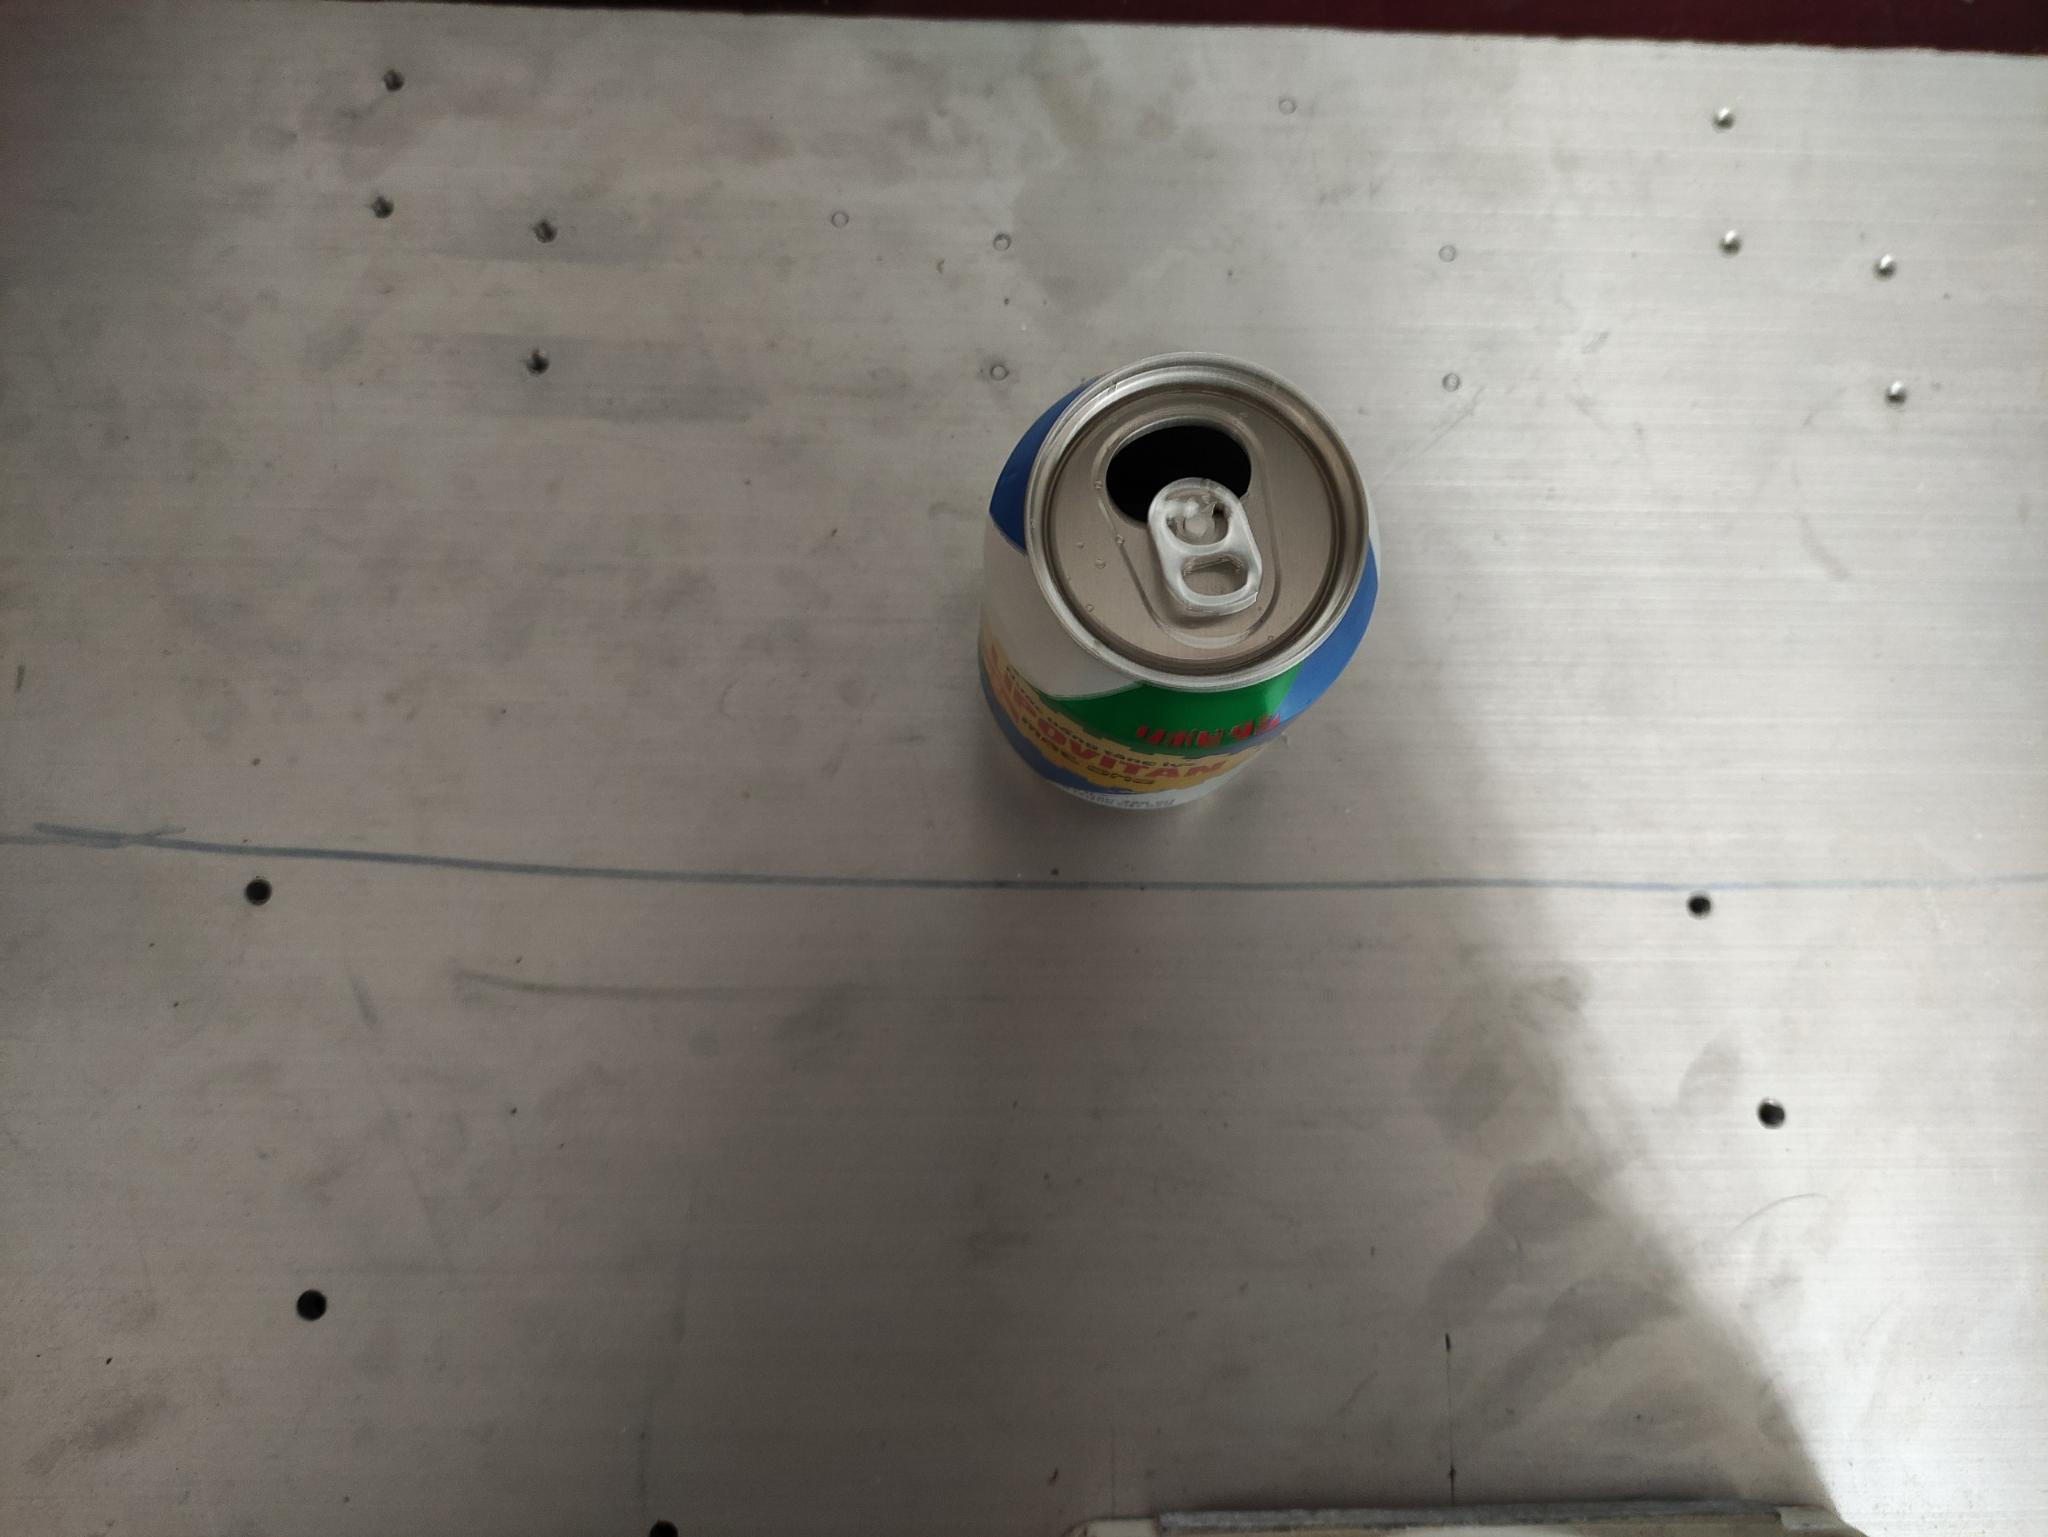metal: (970, 357, 1377, 822)
